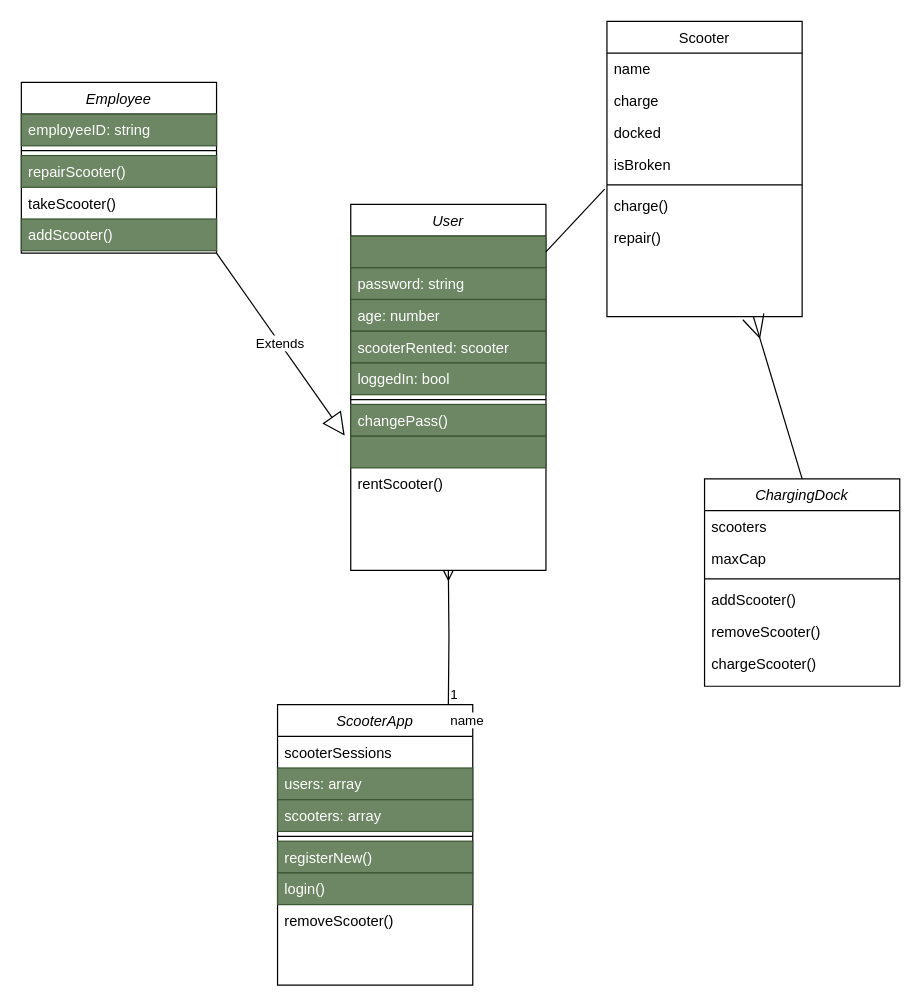
Some shapes in this 921 by 1007 pixel diagram are drawn without their labels. Each missing label, with the centre of its shape:
"markScooter()" goes at (x=448, y=451).
"username: string" goes at (x=448, y=251).
